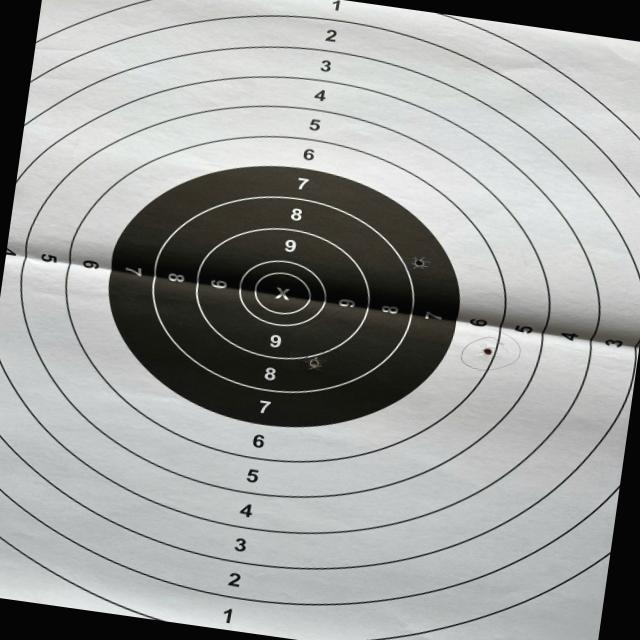bullet: (309, 359, 318, 371), (481, 347, 493, 356), (413, 257, 425, 265)
target: (0, 0, 640, 640)
